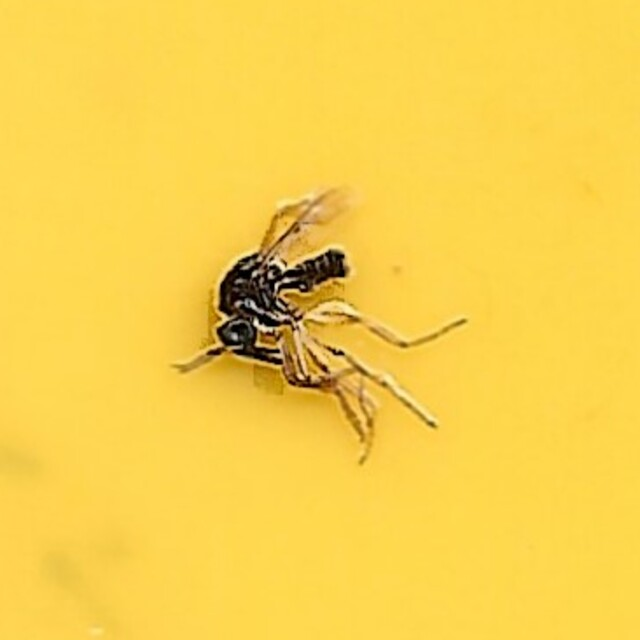Brachycera: (175, 190, 465, 450)
